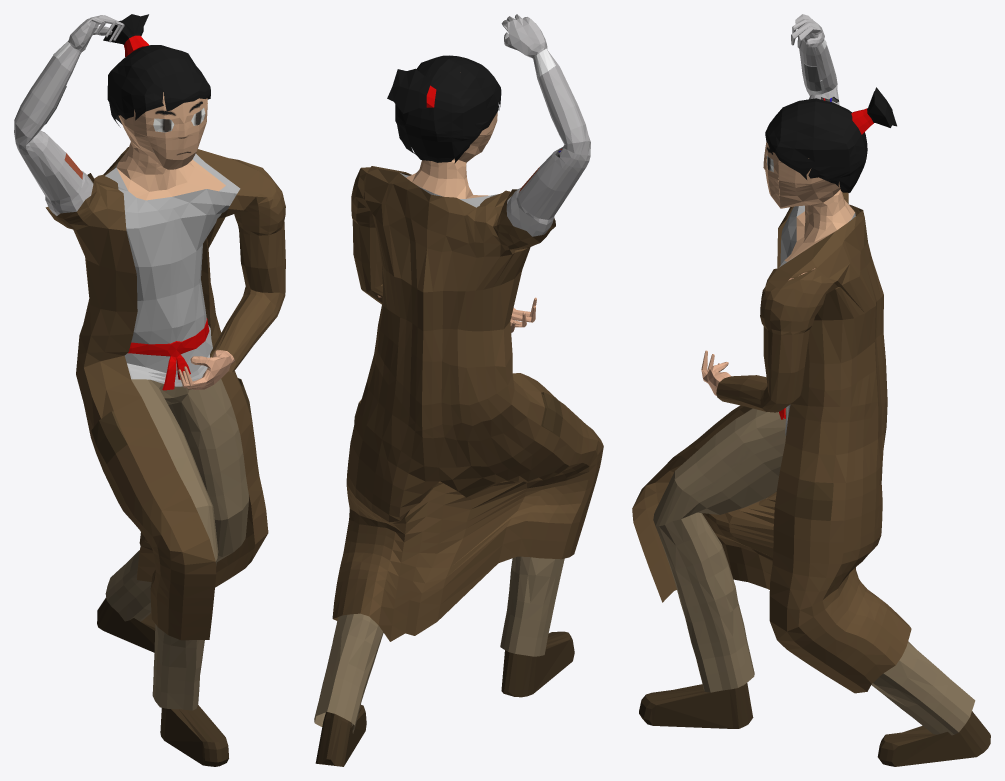
The model's file is Special_Attack_000014.obj.
The picture shows the model from 3 angles, left to right: view 1: azimuth 30°, elevation 25°; view 2: azimuth 150°, elevation 25°; view 3: azimuth 270°, elevation 25°; orthographic projection. The views are drawn at different scales.
Visible parts, largest first — view 1: Hair_Cube.004; view 2: Hair_Cube.004; view 3: Hair_Cube.004.
Boxes of the visible parts, x1,y1,x2,y2 form: Hair_Cube.004: [14, 14, 285, 766]; Hair_Cube.004: [314, 14, 603, 766]; Hair_Cube.004: [632, 14, 990, 766].
Size of the model in its own units: 1.4 by 3.78 by 1.79.
